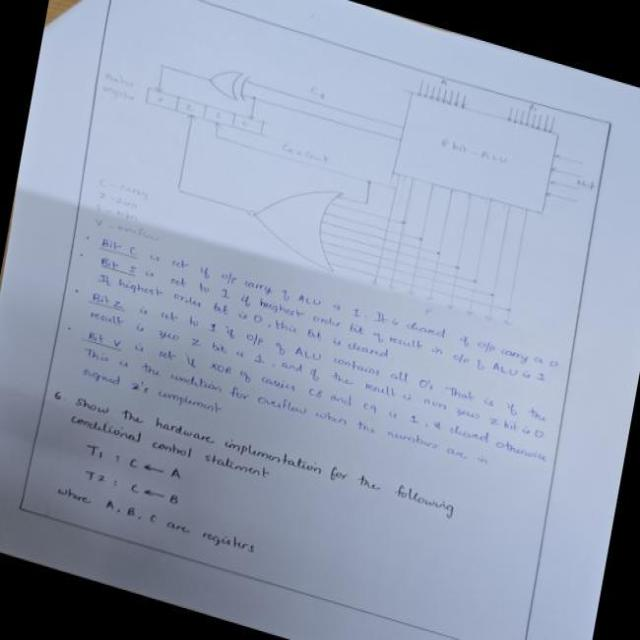Figure Detection - v3 Dataset Version2: (90, 0, 609, 349)
